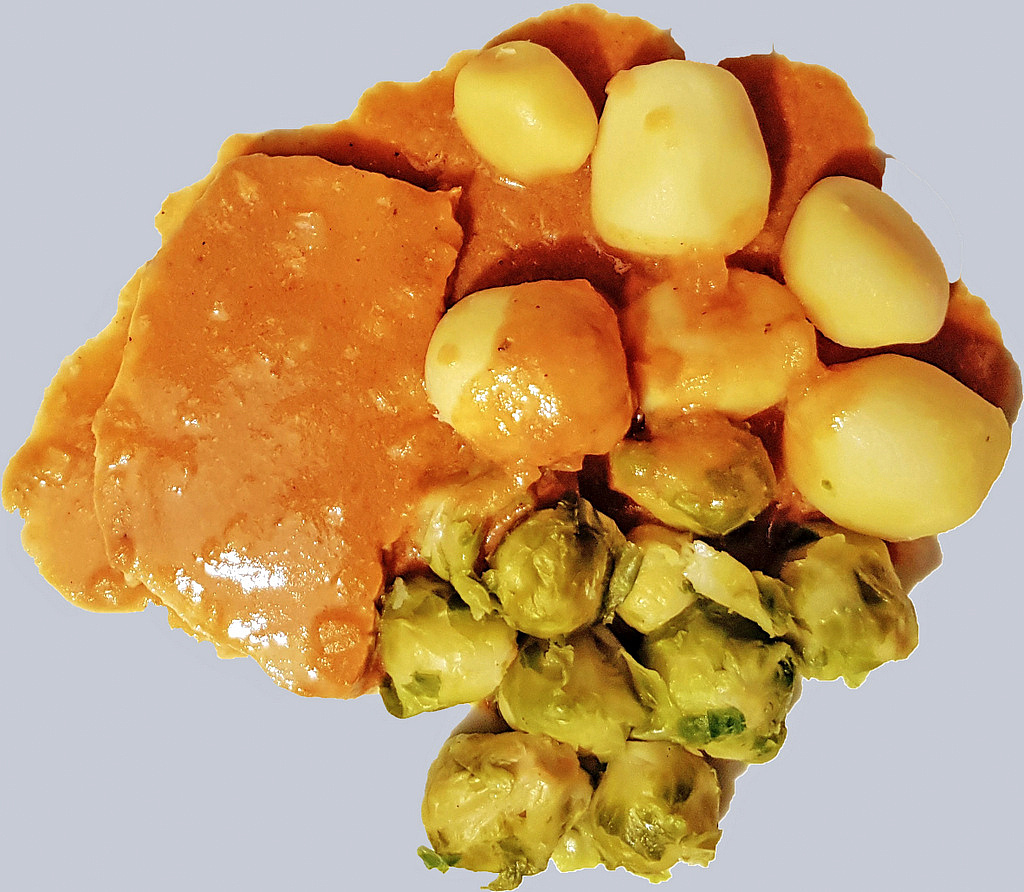boiled potatoes: (790, 359, 999, 543), (598, 62, 765, 244), (787, 175, 959, 342), (452, 292, 626, 450), (468, 43, 591, 181)
